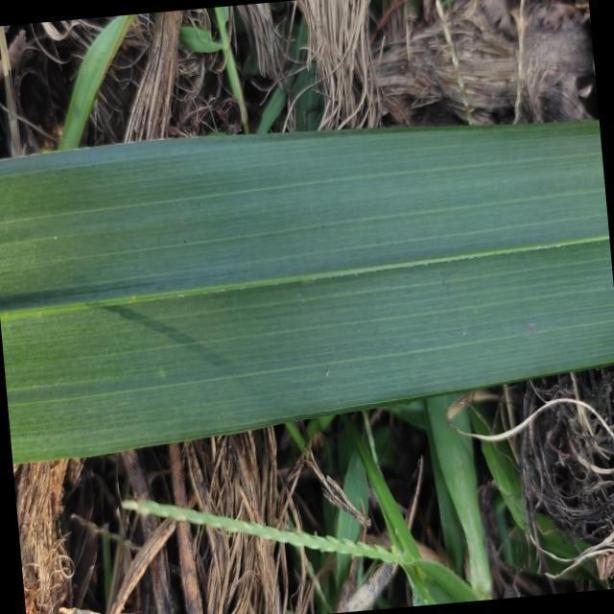Healthy: (0, 121, 614, 467)
